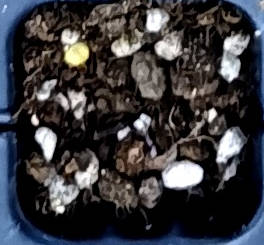pepper seed: (18, 8, 108, 76)
